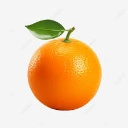orange: (25, 33, 104, 113)
